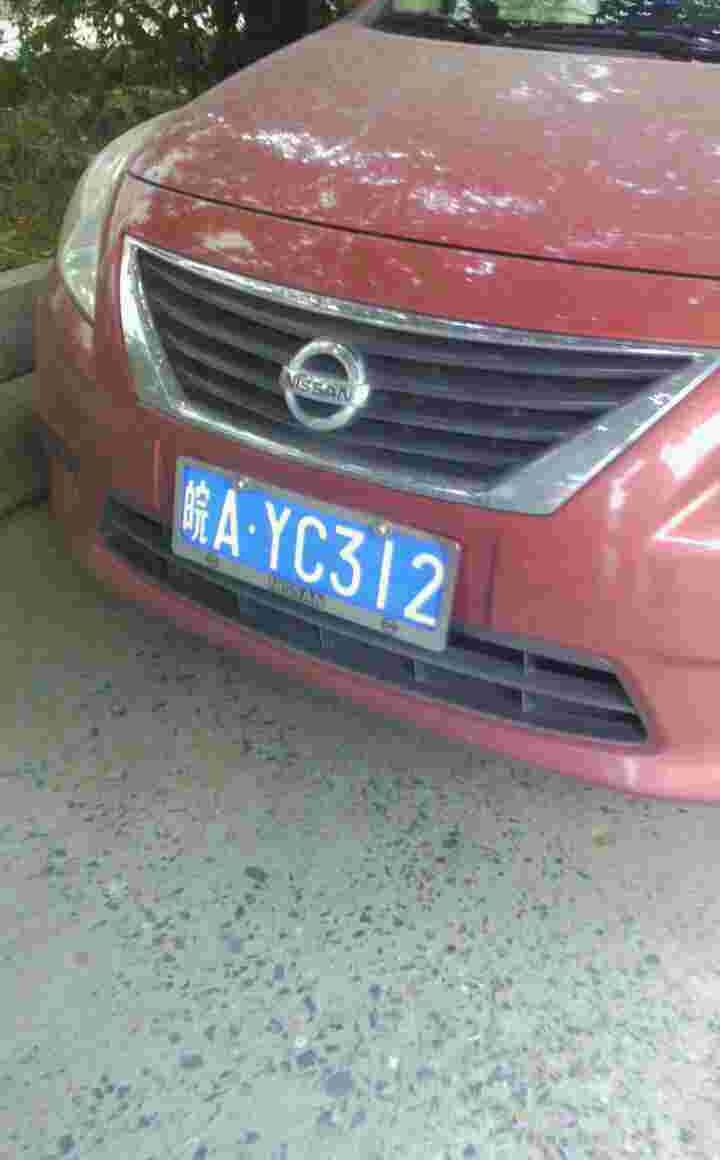license_plate: (186, 471, 445, 629)
